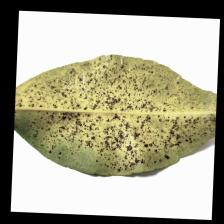canker: (55, 79, 165, 149)
